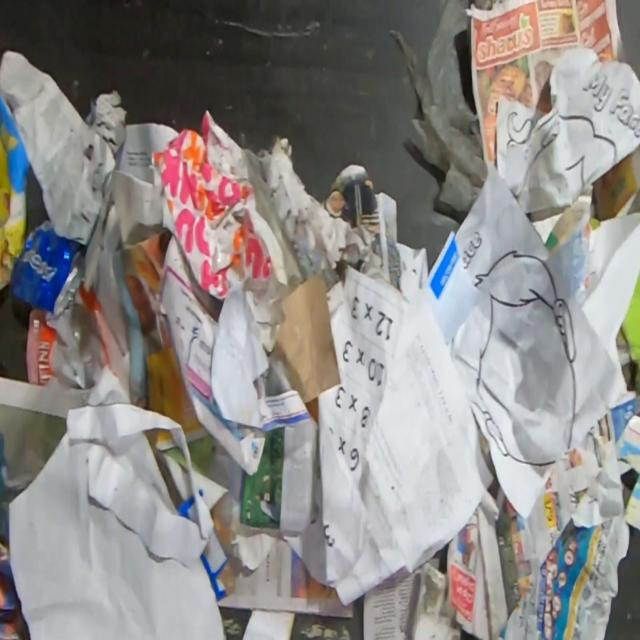cardboard: (620, 265, 640, 365)
metal: (12, 217, 83, 320)
soft_plastic: (391, 0, 488, 214), (25, 284, 130, 390)
